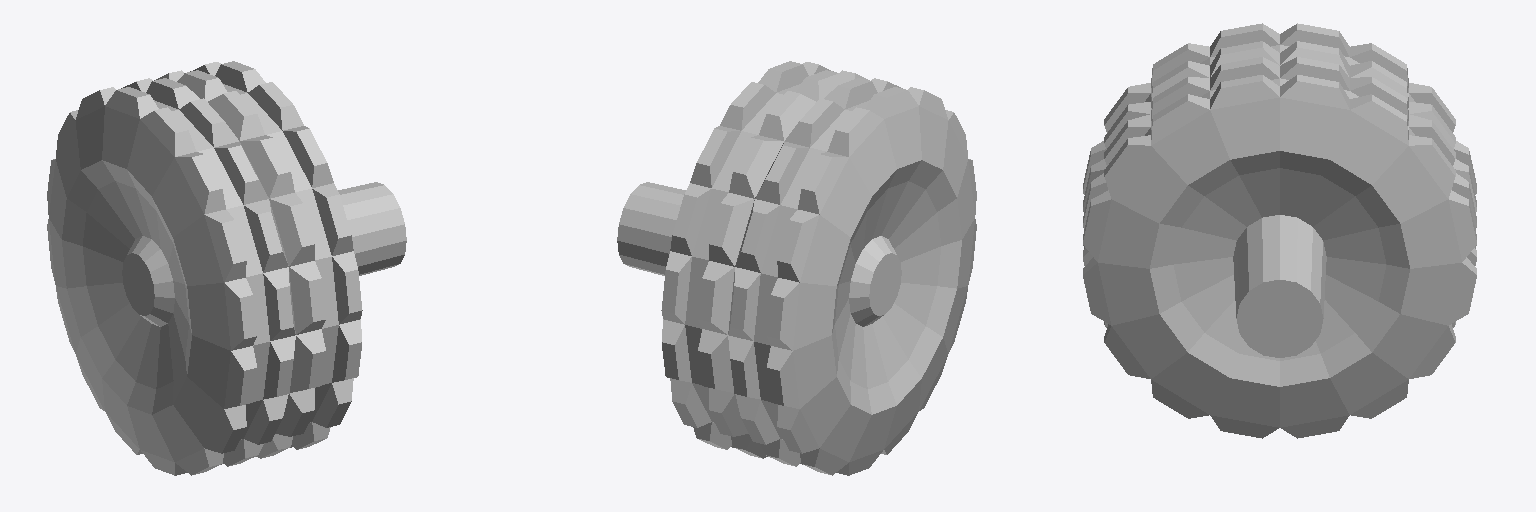
Rendered from truck_front_wheel.obj.
3 renders of one model, left to right at view 1: azimuth 30°, elevation 25°; view 2: azimuth 150°, elevation 25°; view 3: azimuth 270°, elevation 25°, orthographic.
Parts seen in each view (by area): view 1: Cylinder.001_Cylinder.002; view 2: Cylinder.001_Cylinder.002; view 3: Cylinder.001_Cylinder.002.
Boxes of the visible parts, box(x1,y1,x2,y2) form: Cylinder.001_Cylinder.002: box(47, 61, 406, 475); Cylinder.001_Cylinder.002: box(617, 61, 976, 475); Cylinder.001_Cylinder.002: box(1083, 23, 1476, 438).
Bounding box in the file's own units: 2.8 × 3.71 × 3.71.